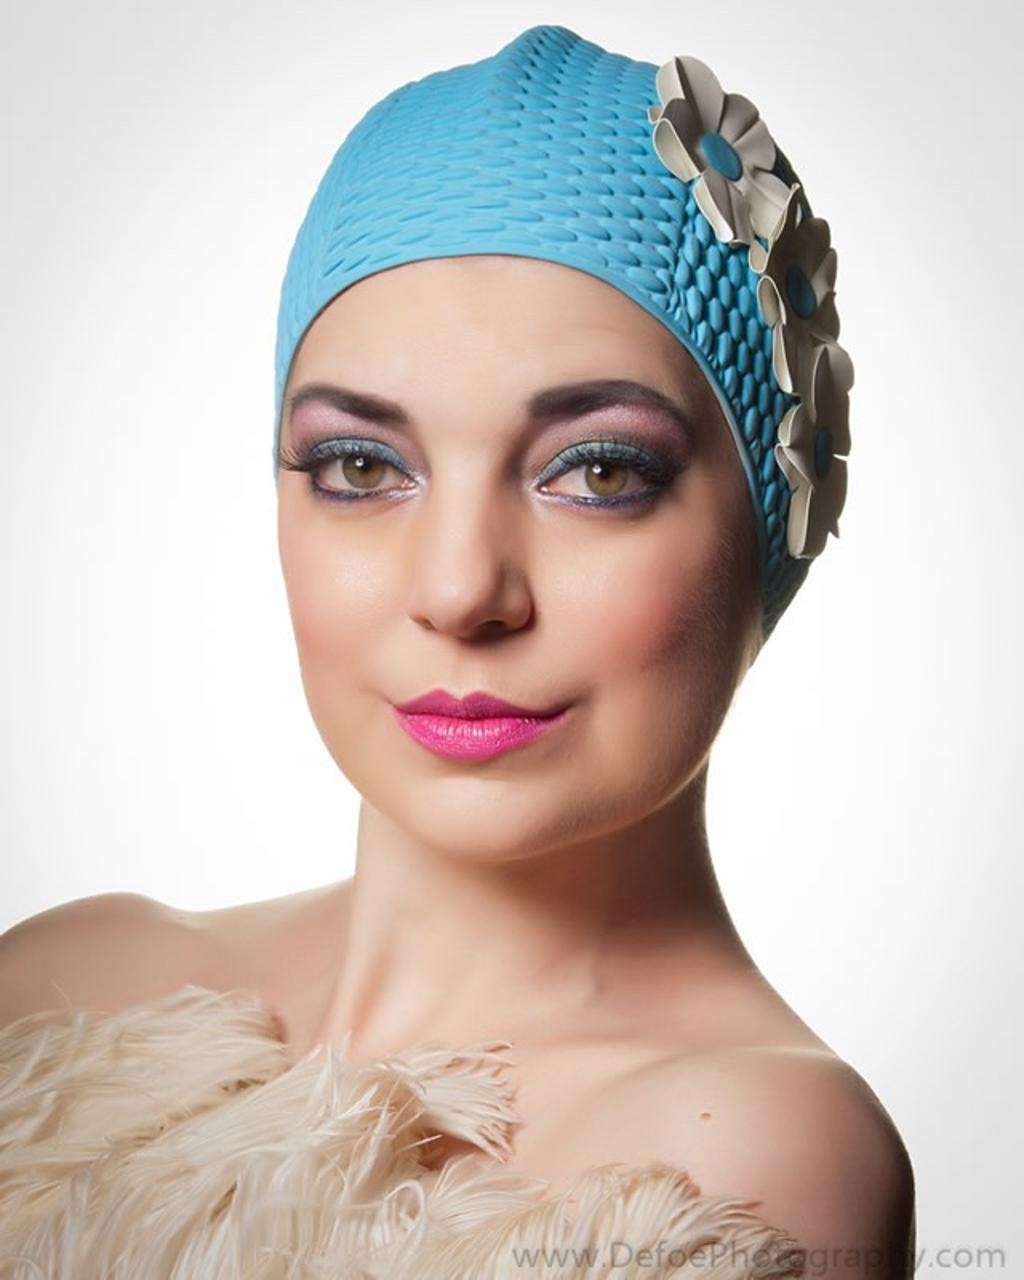face: (270, 185, 765, 859)
